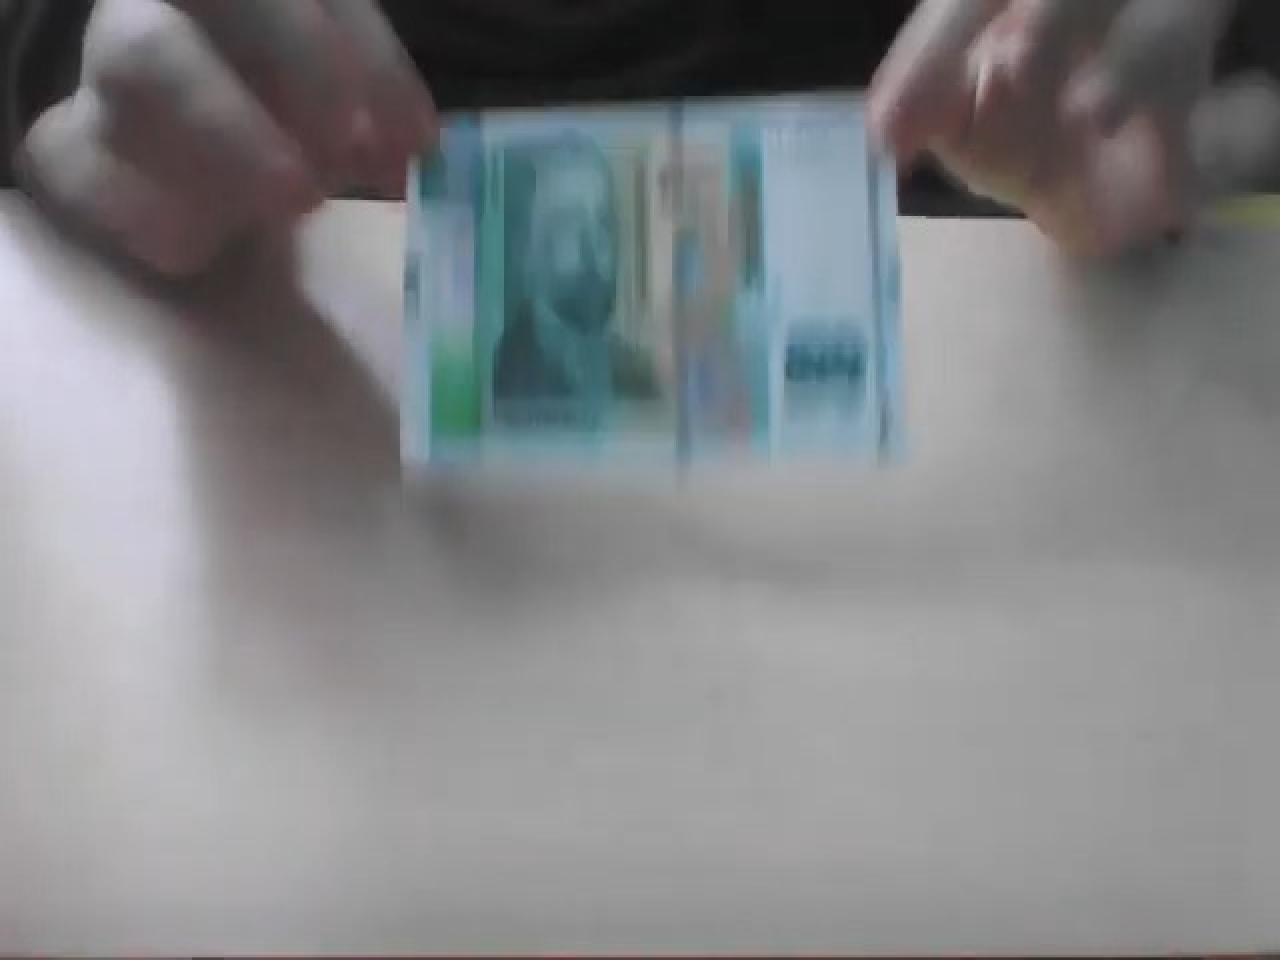100leva: (398, 89, 908, 491)
